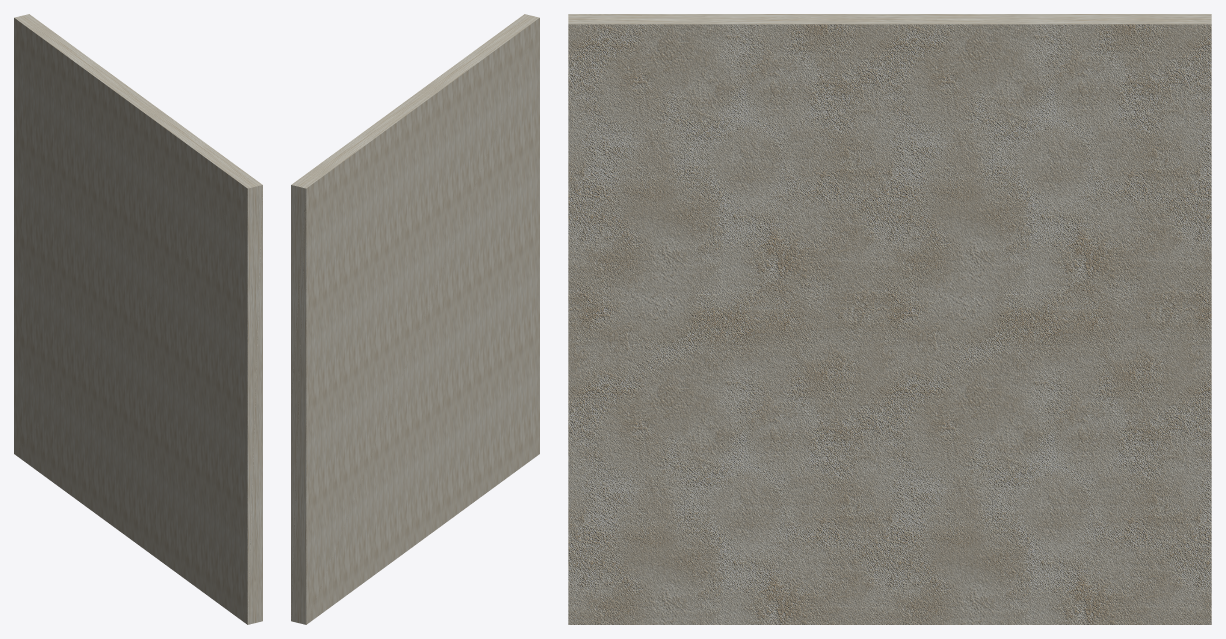
Rendered from TOILET.fbx.
The picture shows the model from 3 angles, left to right: view 1: azimuth 30°, elevation 25°; view 2: azimuth 150°, elevation 25°; view 3: azimuth 270°, elevation 25°; orthographic projection. The views are drawn at different scales.
Parts seen in each view (by area): view 1: Cube__5_.001; view 2: Cube__5_.001; view 3: Cube__5_.001.
Part boxes in pixels (bbox=[...]): Cube__5_.001: bbox=[14, 14, 262, 624]; Cube__5_.001: bbox=[291, 14, 539, 624]; Cube__5_.001: bbox=[568, 14, 1211, 624].
Size of the model in its own units: 14.54 by 400 by 388.
1 material, 1 textured.
